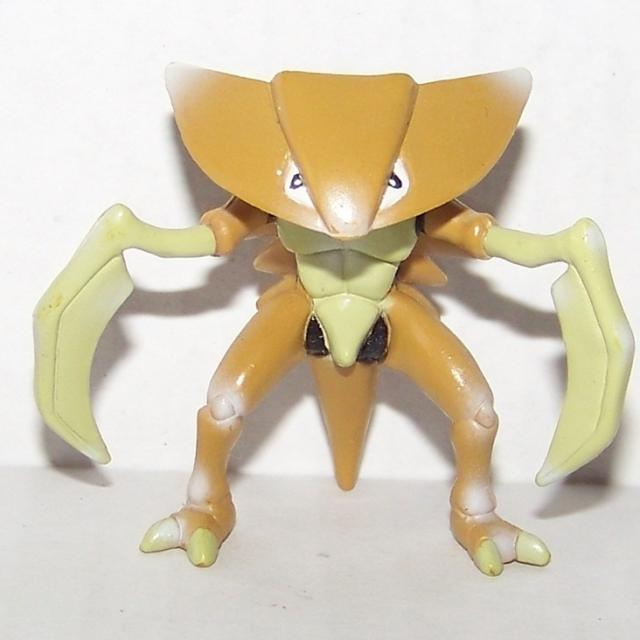Kabutops: (27, 43, 638, 589)
